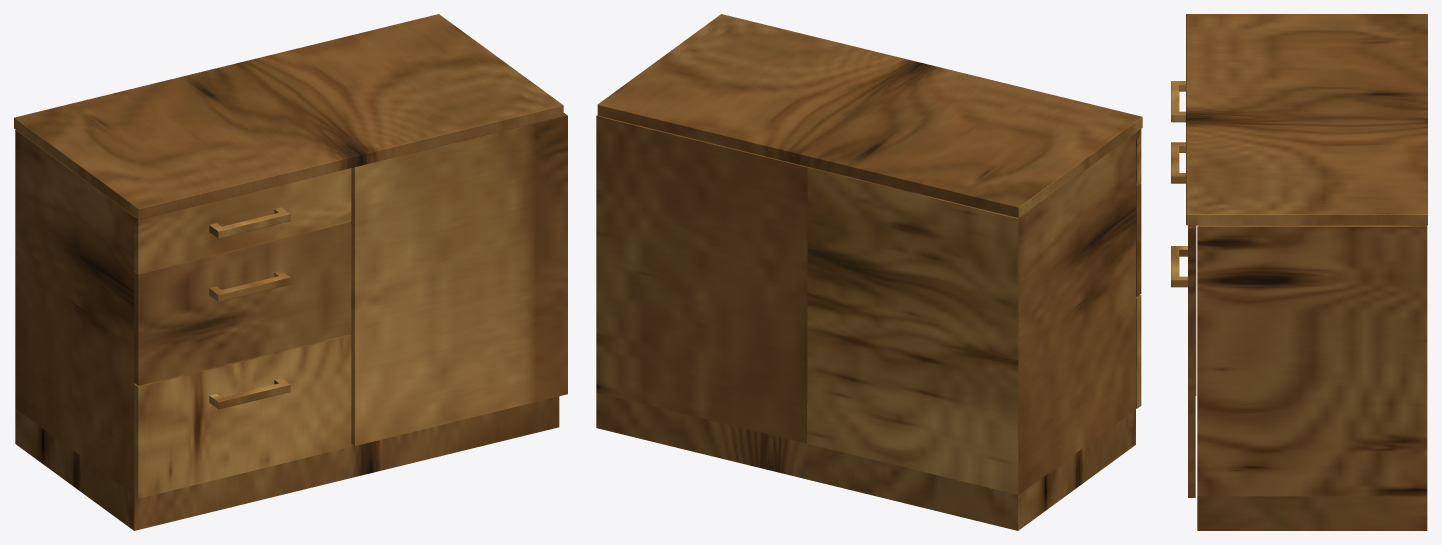
File: Working_table_3.fbx
3 renders of one model, left to right at view 1: azimuth 30°, elevation 25°; view 2: azimuth 150°, elevation 25°; view 3: azimuth 270°, elevation 25°, orthographic. The views are drawn at different scales.
Parts seen in each view (by area): view 1: Table_3; view 2: Table_3; view 3: Table_3.
Part boxes in pixels (x1,y1,x2,y2): Table_3: (14,14,567,530); Table_3: (596,14,1142,530); Table_3: (1171,14,1427,530).
Bounding box in the file's own units: 121 × 87.91 × 64.78.
Materials: 1 (1 with a texture image).
